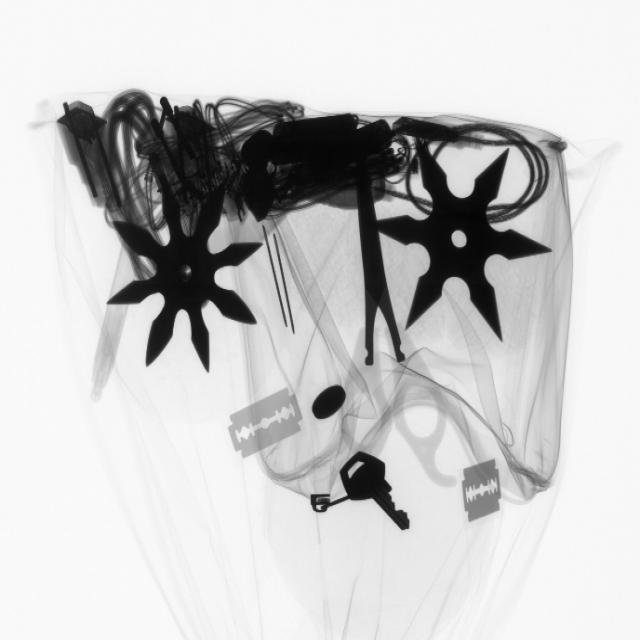BLADE: (224, 382, 309, 465), (457, 452, 512, 528)
SHURIKEN: (382, 140, 547, 347), (109, 170, 267, 380)
